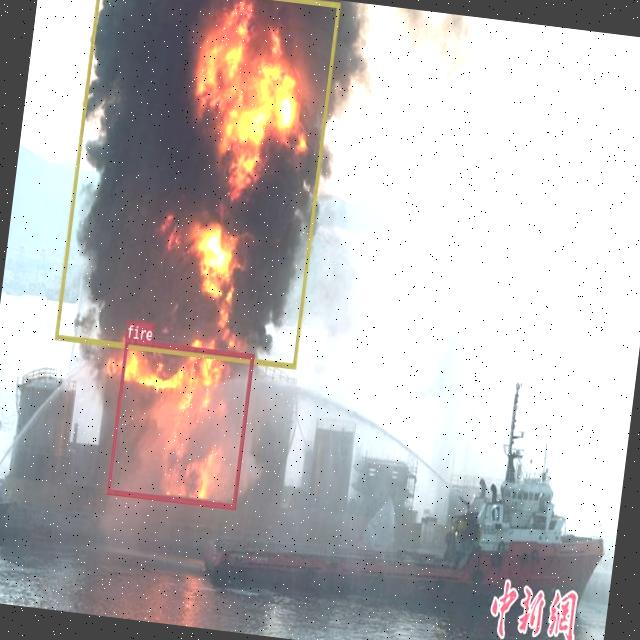fire: (105, 336, 254, 509)
smoke: (53, 0, 339, 367)
